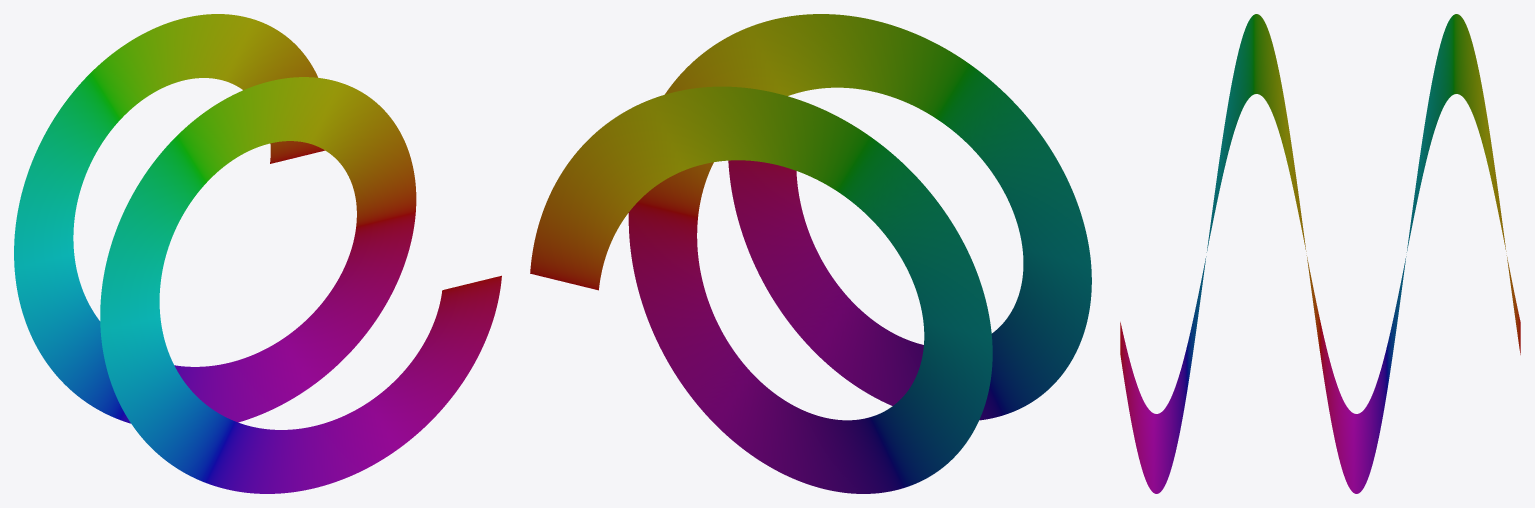
File: helix.glb
3 views of the same model, side by side, from view 1: azimuth 30°, elevation 25°; view 2: azimuth 150°, elevation 25°; view 3: azimuth 270°, elevation 25° (orthographic). The views are drawn at different scales.
Bounding box in the file's own units: 24 × 24 × 20.
